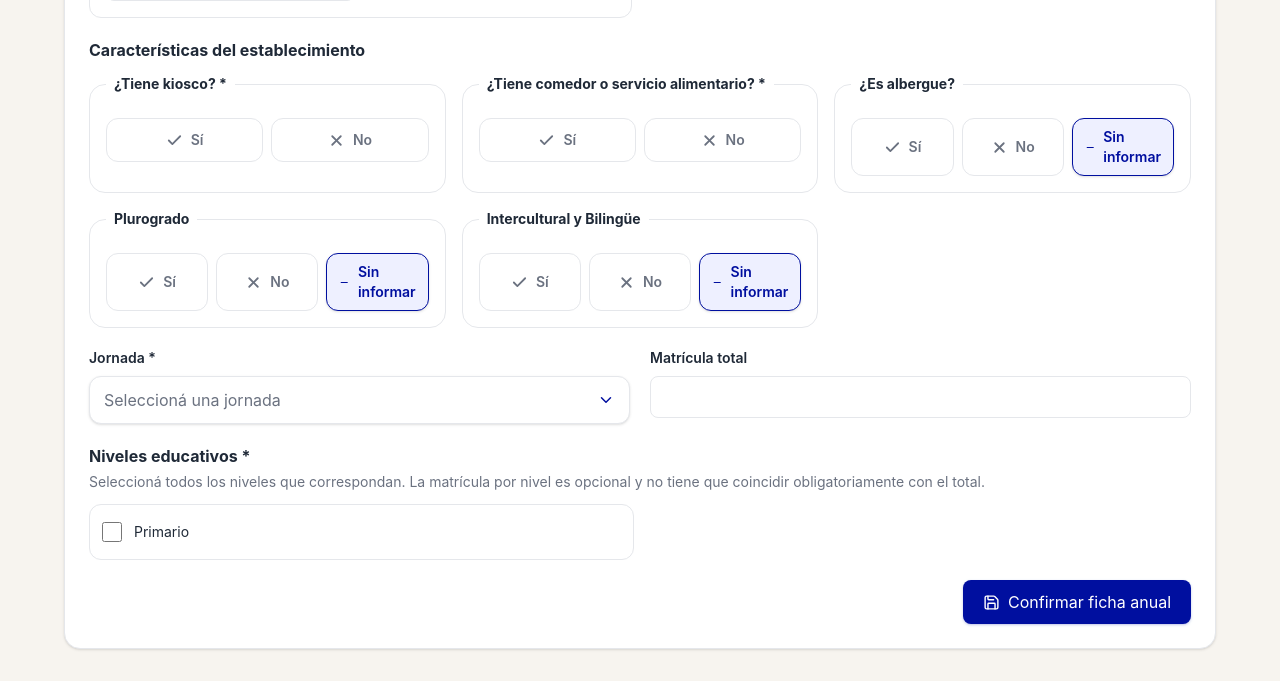
Test: SchoolProfilePage › solicita confirmación antes de quitar un nivel con matrícula
(page scrolled)
Click the checkbox labelled "Primario" at (112,532), box [102,522,122,542]
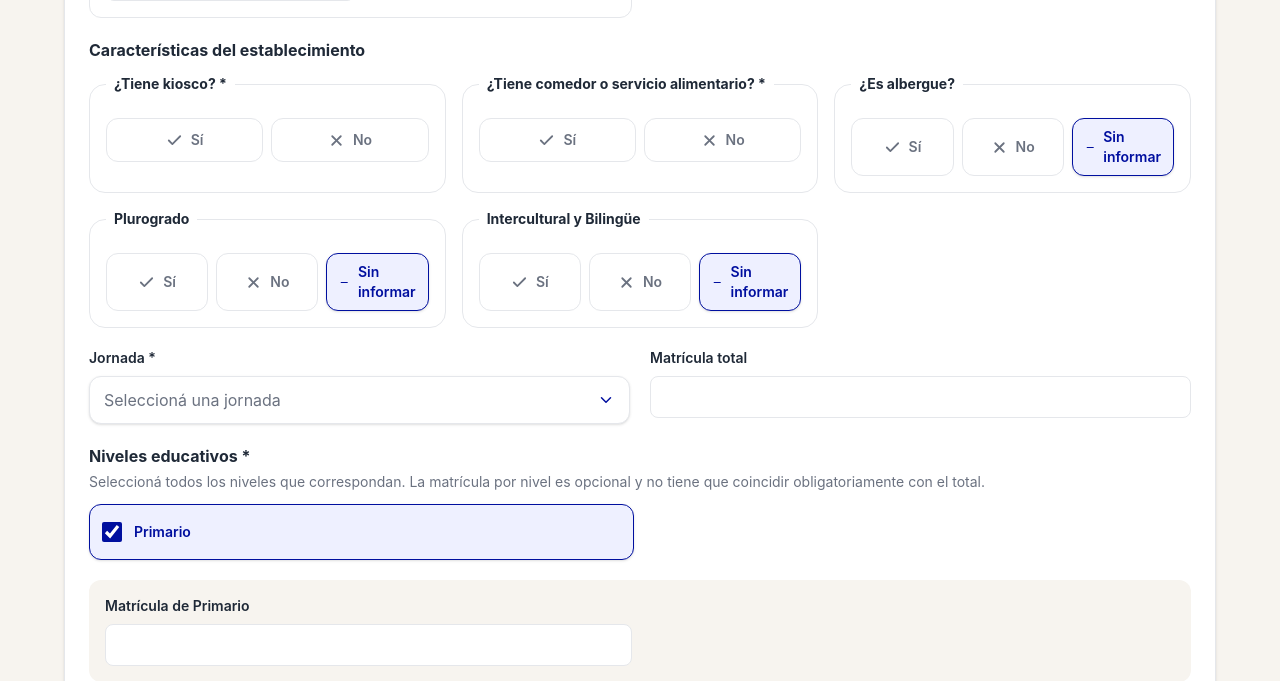
Type "25" into the number field labelled "Matrícula de Primario" at (368,645), box [105,624,632,666]
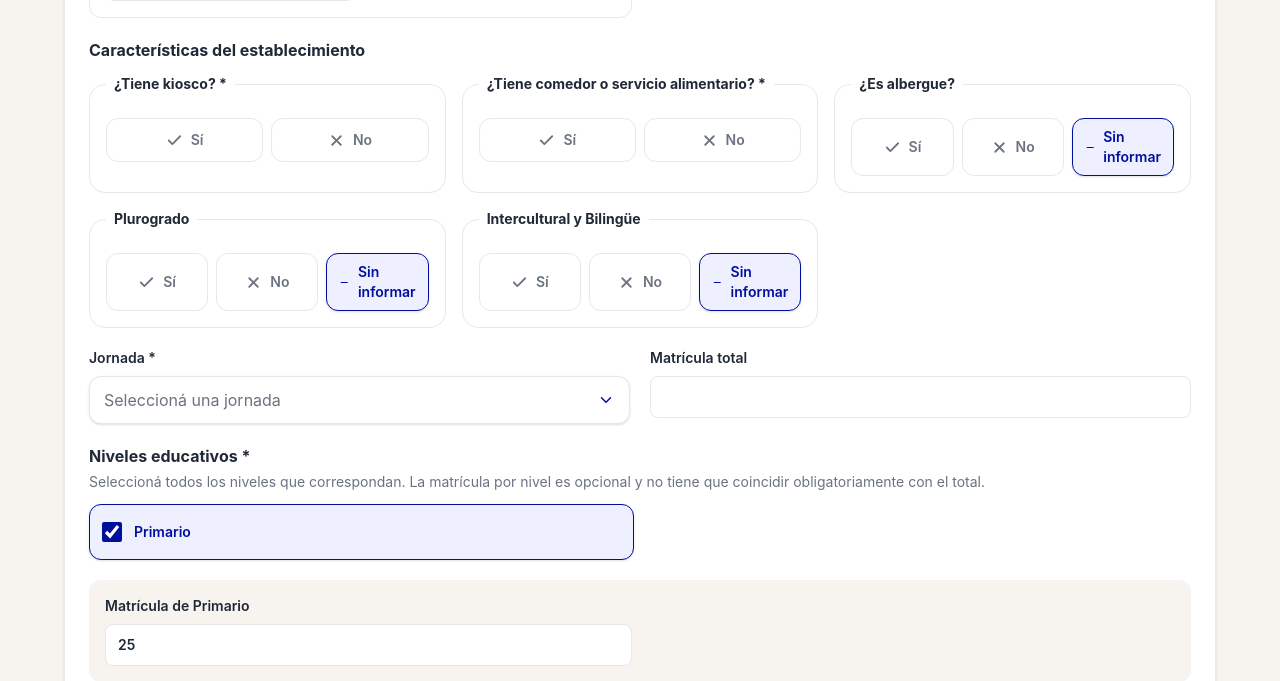
Click the checkbox labelled "Primario" at (112,532), box [102,522,122,542]
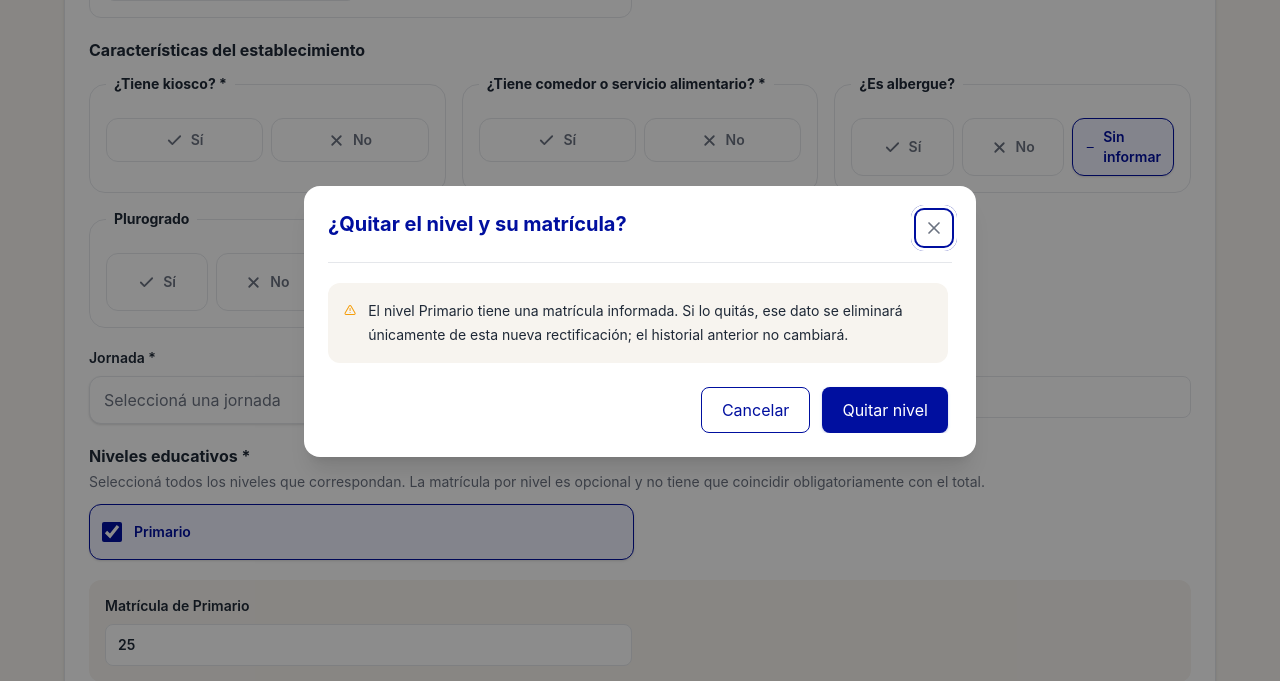
Expected: the checkbox labelled "Primario" is checked, [102,522,122,542]
Expected: the heading "¿Quitar el nivel y su matrícula?" is shown, [328,210,627,238]
Click the button "Quitar nivel" at (885,410), box [822,386,948,432]
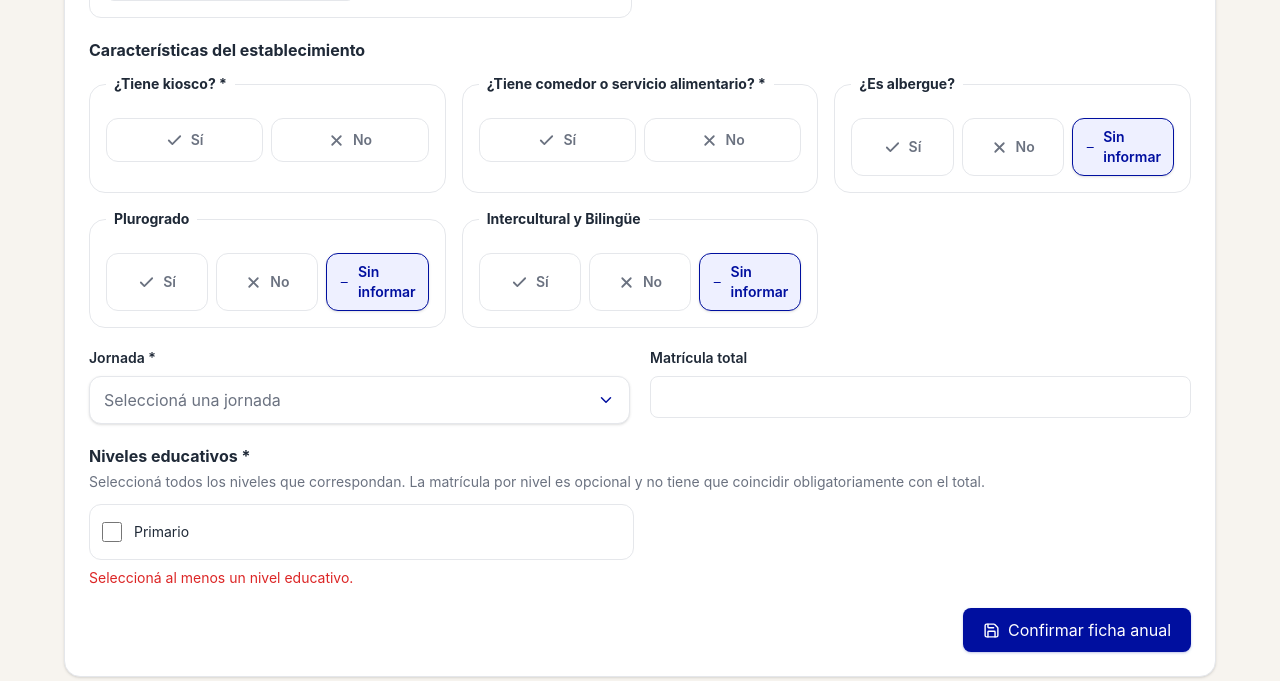
Expected: the text labelled "Matrícula de Primario" is gone
